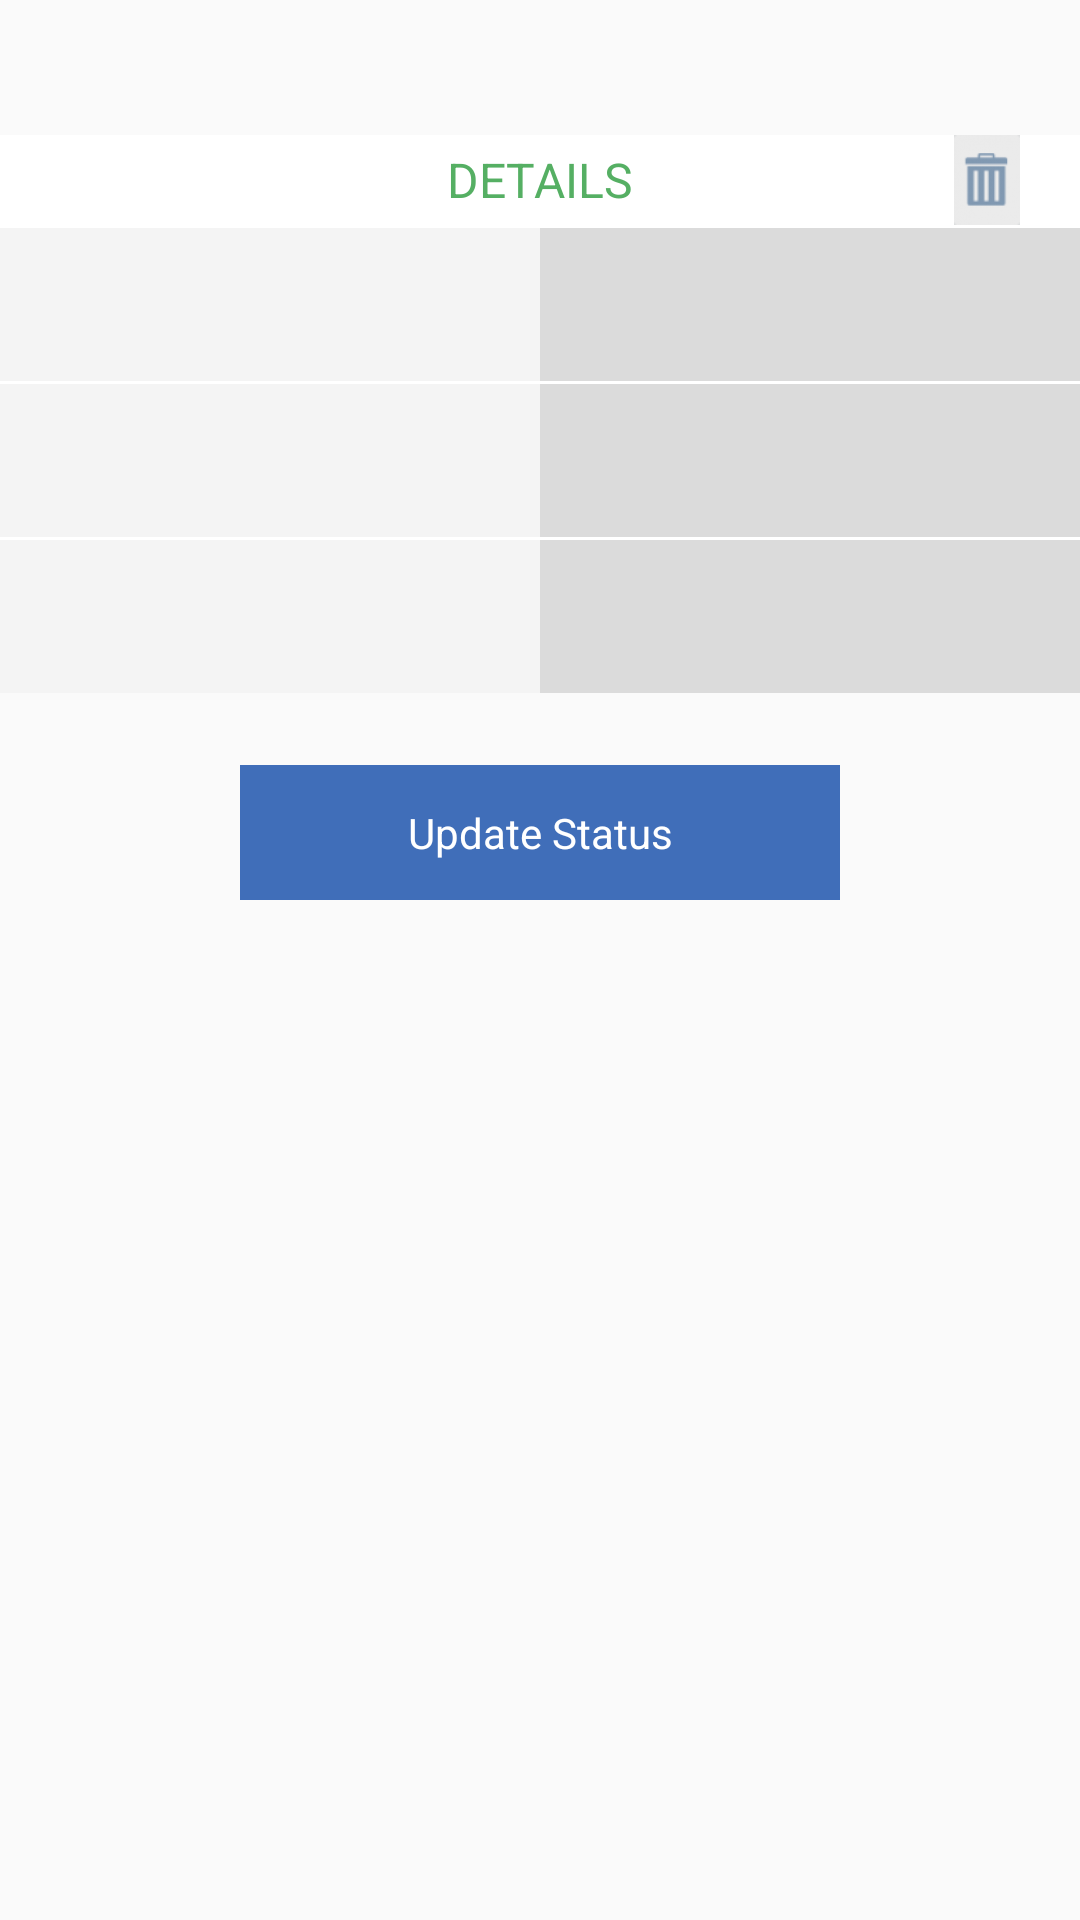

Screen size 1080×1920. Icon name, then its box in pixels as (x1,y1,x2,y2):
delete dwaee: (954,135,1020,225)
